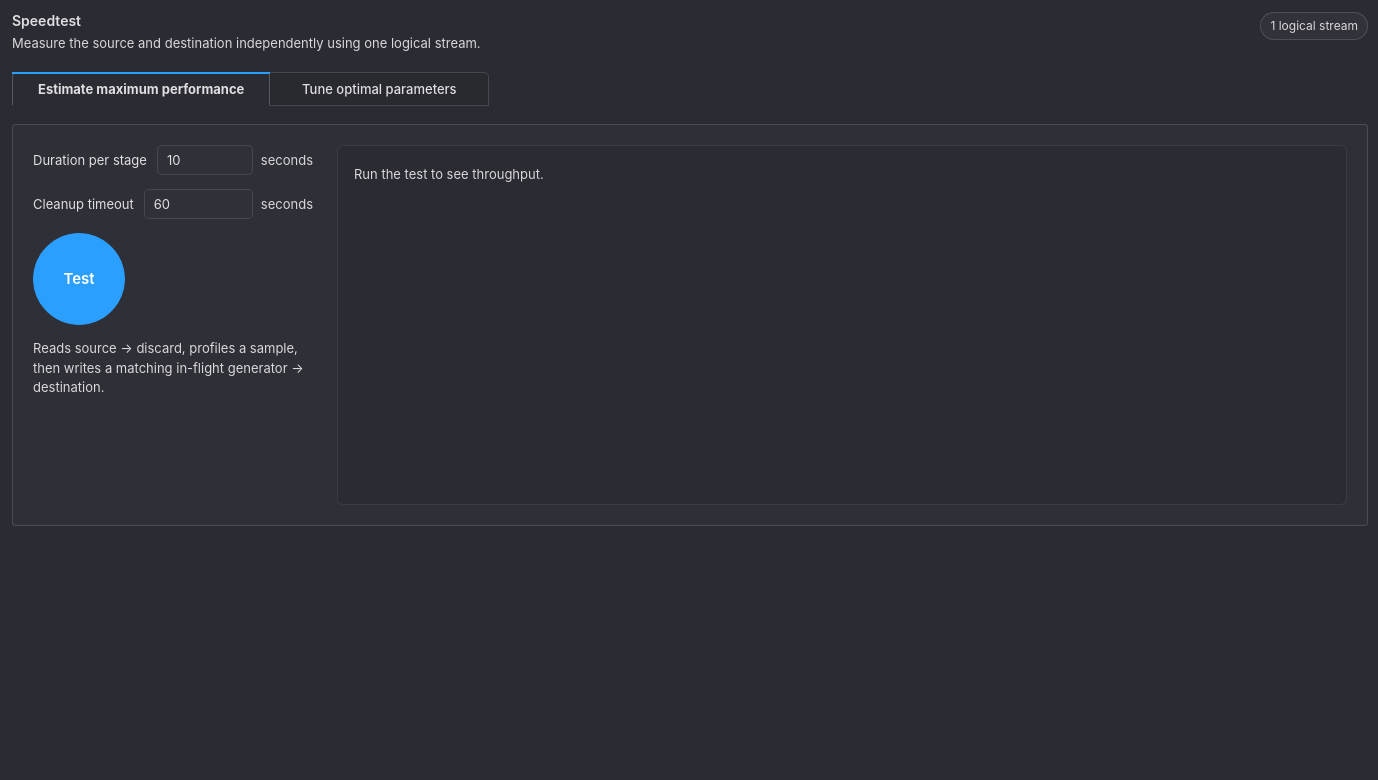
Scenario: SpeedtestWorkspace › rejects invalid test and trial durations before starting server work
The image size is (1378, 780).
Replace the text in the field named "Test duration in seconds" with "1.5" at (205, 160), box [157,145,253,175]
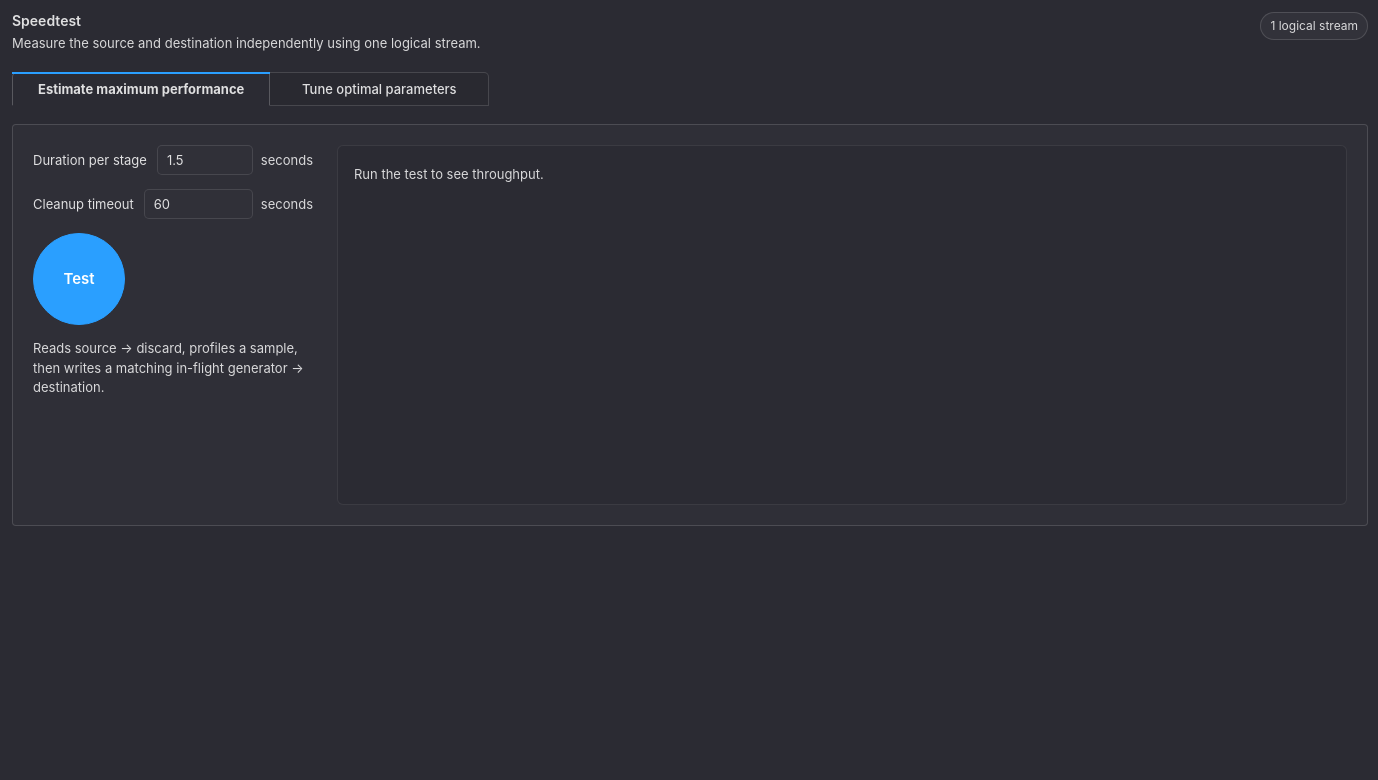
Click the button "Test" at (79, 279), box [33,233,125,325]
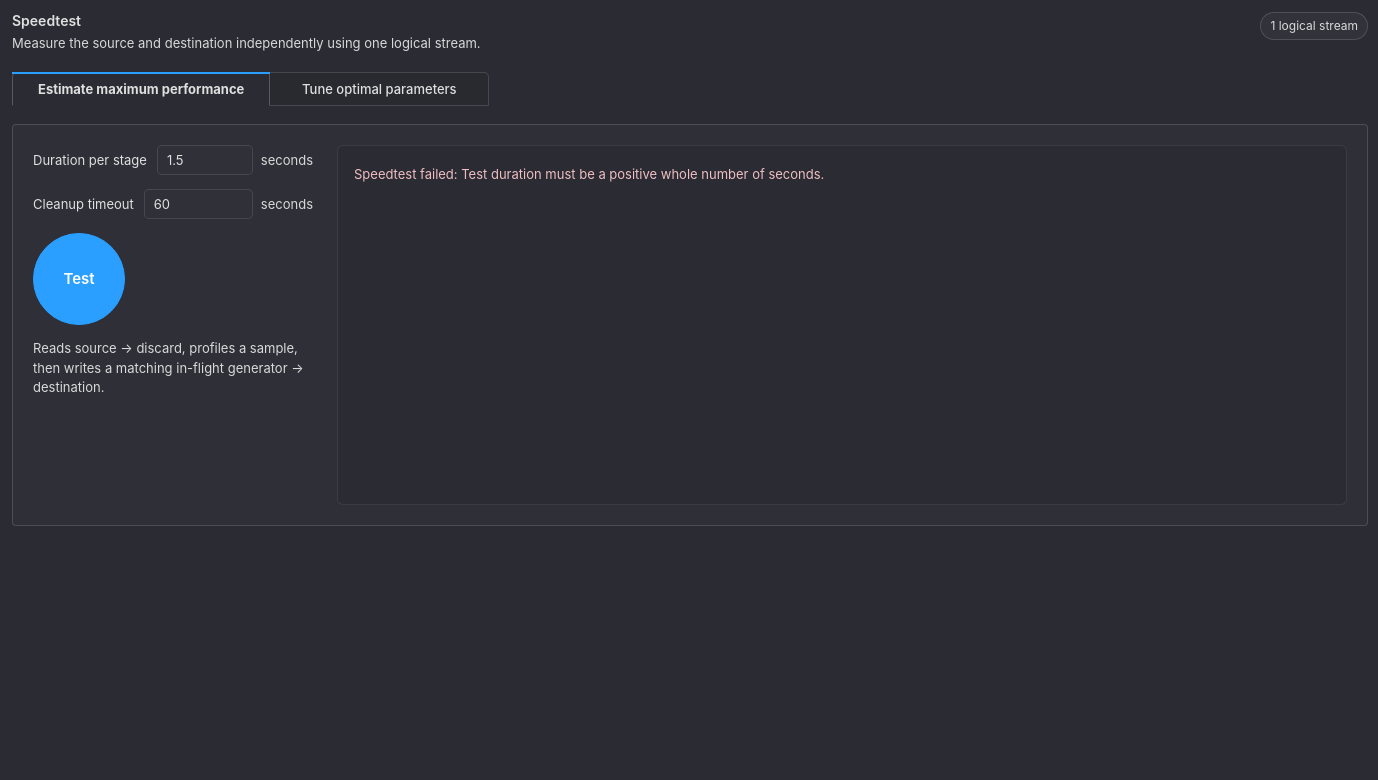
expect the message shows "Test duration must be a positive whole number of seconds.": met, box [461,166,824,182]
Click the tab "Tune optimal parameters" at (379, 89), box [269,72,489,106]
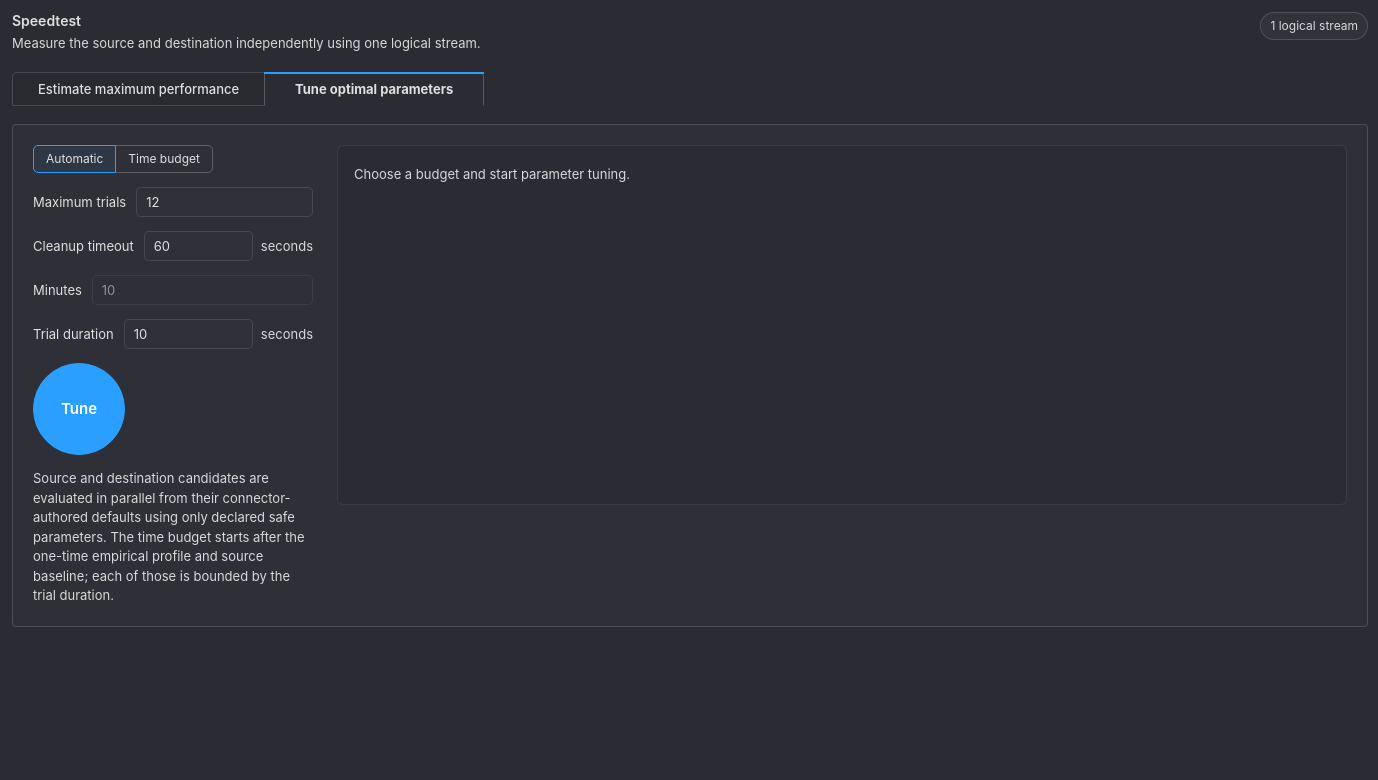
Replace the text in the field named "Trial duration in seconds" with "0" at (188, 334), box [124,319,253,349]
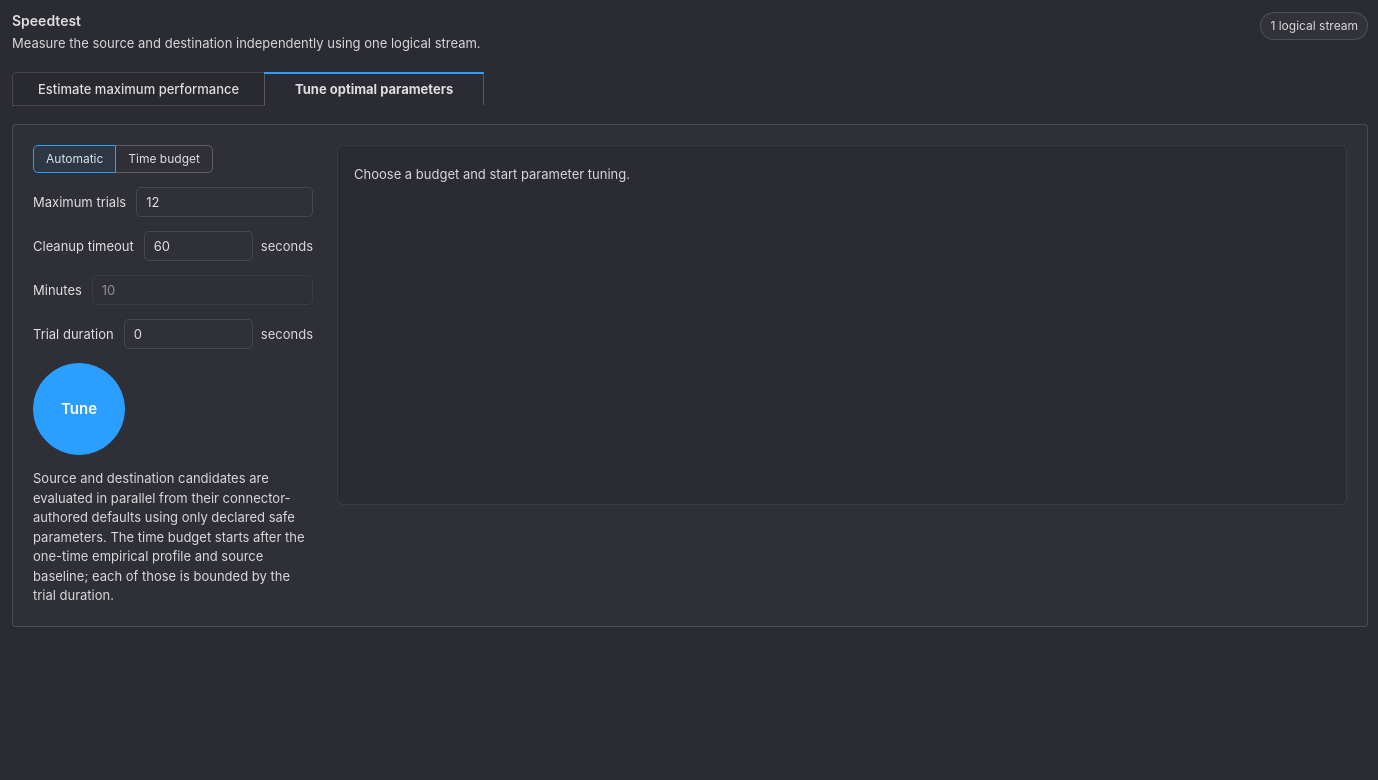
Click the button "Tune" at (79, 409), box [33,363,125,455]
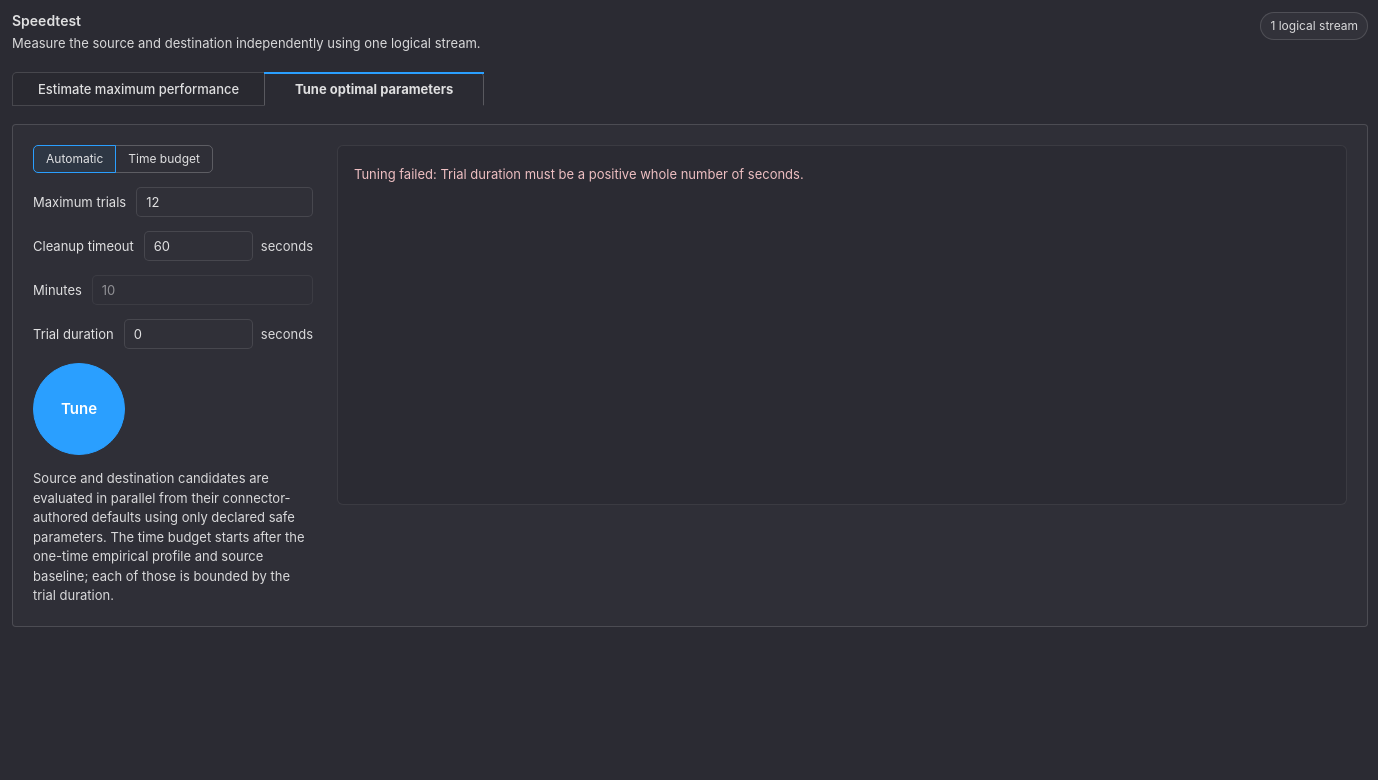
expect the message shows "Trial duration must be a positive whole number of seconds.": met, box [440,166,804,182]
